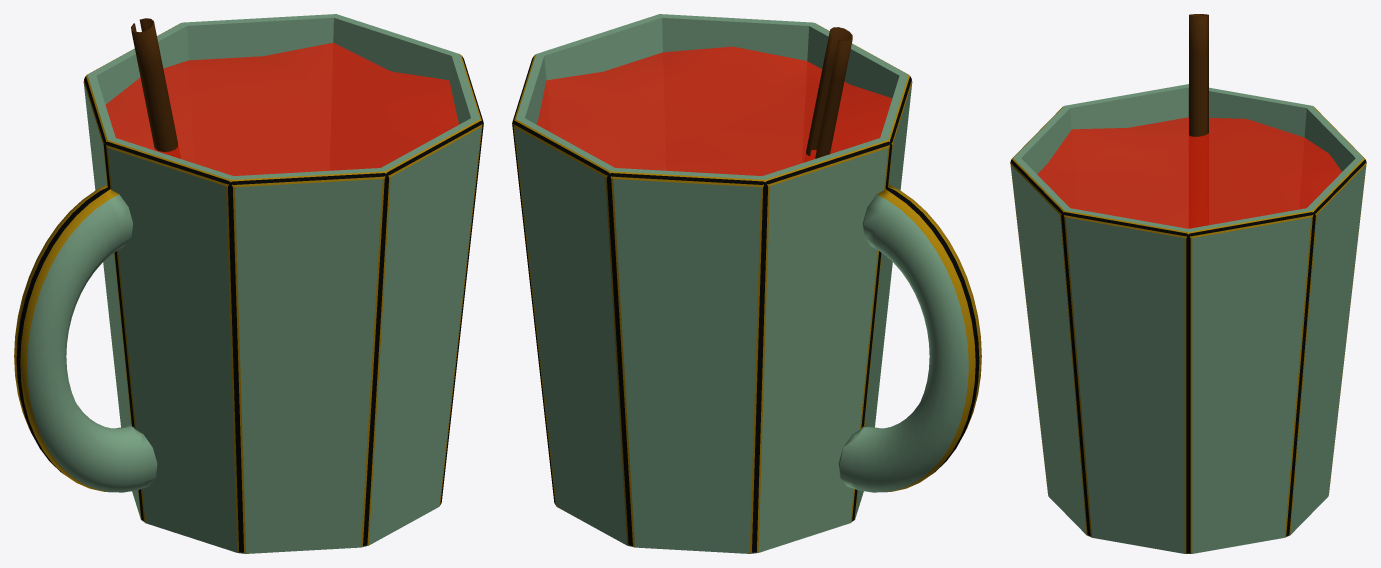
The model's file is wolf tea.fbx.
3 renders of one model, left to right at view 1: azimuth 30°, elevation 25°; view 2: azimuth 150°, elevation 25°; view 3: azimuth 270°, elevation 25°, orthographic. The views are drawn at different scales.
Visible parts, largest first — view 1: wolf; view 2: wolf; view 3: wolf.
Boxes of the visible parts, x1=… form: wolf: x1=14, y1=14, x2=483, y2=553; wolf: x1=512, y1=14, x2=981, y2=553; wolf: x1=1010, y1=14, x2=1366, y2=553.
Size of the model in its own units: 312 by 332 by 251.
